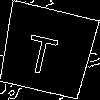T: (22, 25, 62, 77)
